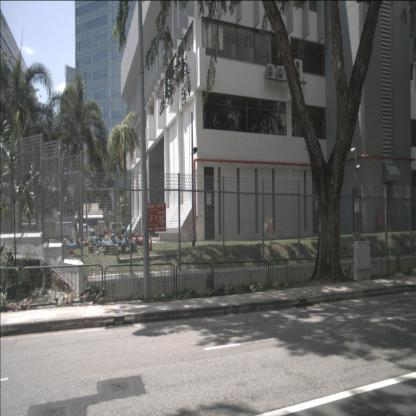vehicle-car: (75, 223, 95, 237)
vehicle-truck: (112, 222, 126, 234)
